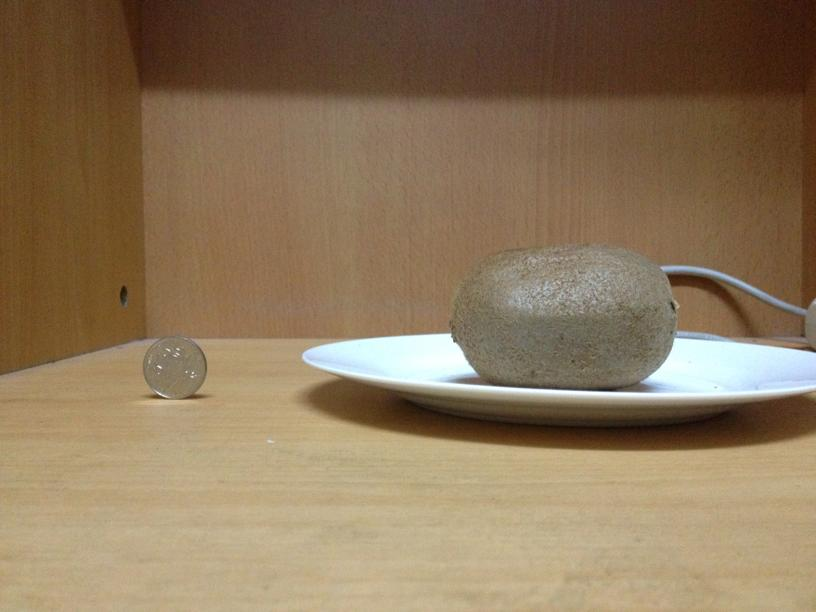coin: (141, 333, 208, 399)
qiwi: (447, 242, 676, 388)
